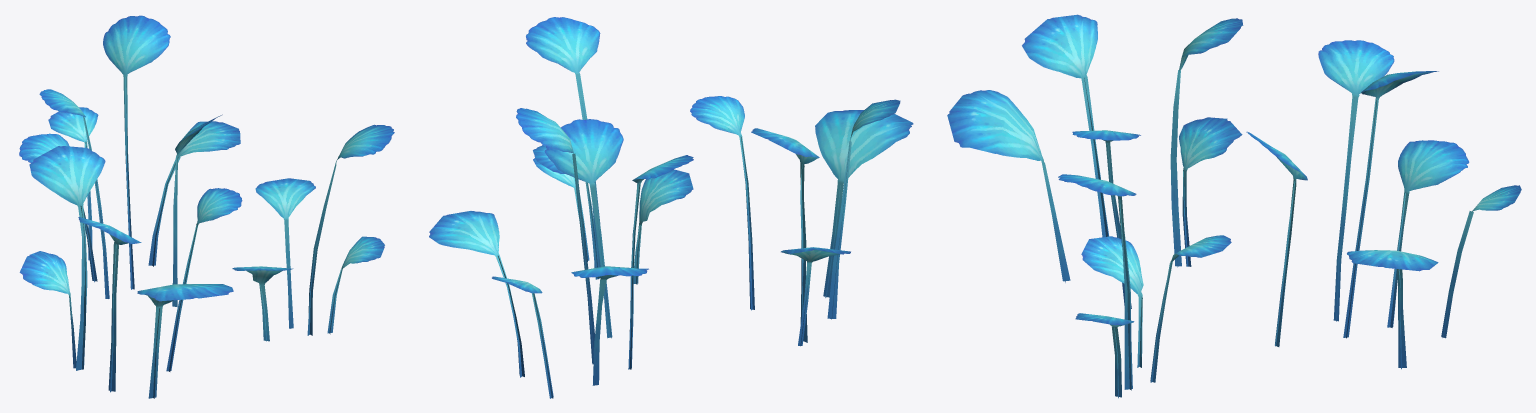
The model's file is Area_Dq_Grass_HZD_Bcc_01.fbx.
The picture shows the model from 3 angles, left to right: view 1: azimuth 30°, elevation 25°; view 2: azimuth 150°, elevation 25°; view 3: azimuth 270°, elevation 25°; orthographic projection. The views are drawn at different scales.
Parts seen in each view (by area): view 1: Area_Dq_Grass_HZD_Bcc_01_Lod0; view 2: Area_Dq_Grass_HZD_Bcc_01_Lod0; view 3: Area_Dq_Grass_HZD_Bcc_01_Lod0.
Boxes of the visible parts, x1,y1,x2,y2 form: Area_Dq_Grass_HZD_Bcc_01_Lod0: [19, 15, 394, 398]; Area_Dq_Grass_HZD_Bcc_01_Lod0: [429, 17, 913, 398]; Area_Dq_Grass_HZD_Bcc_01_Lod0: [947, 14, 1521, 398].
Size of the model in its own units: 2.27 by 1.58 by 2.79.
1 material, 1 textured.
